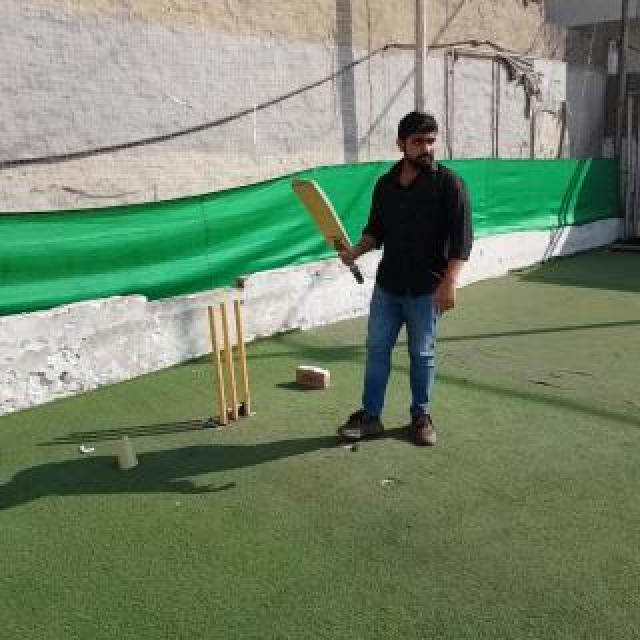bat: (289, 178, 365, 284)
